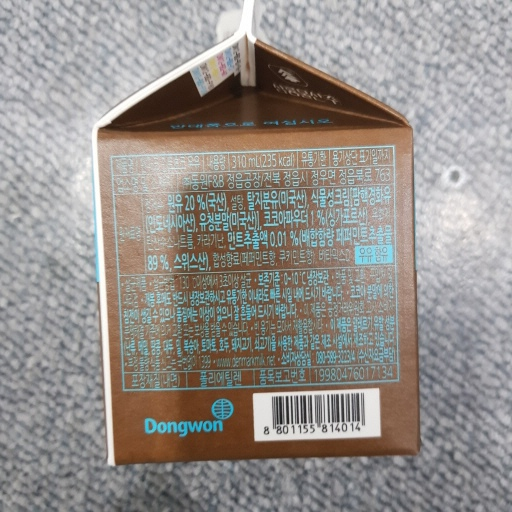Paper_0: (80, 5, 432, 473)
